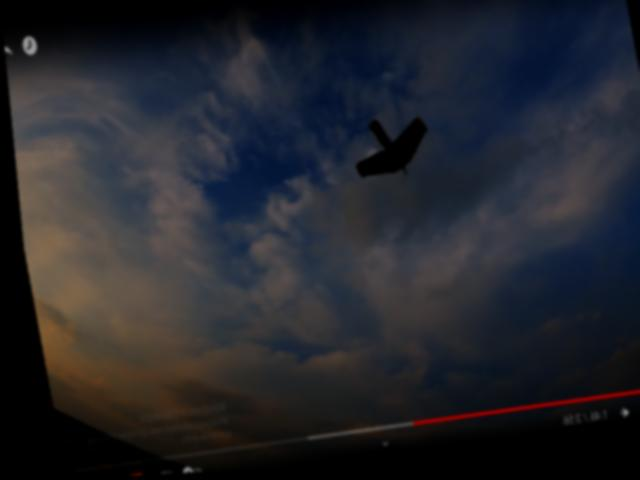plane: (344, 117, 432, 186)
